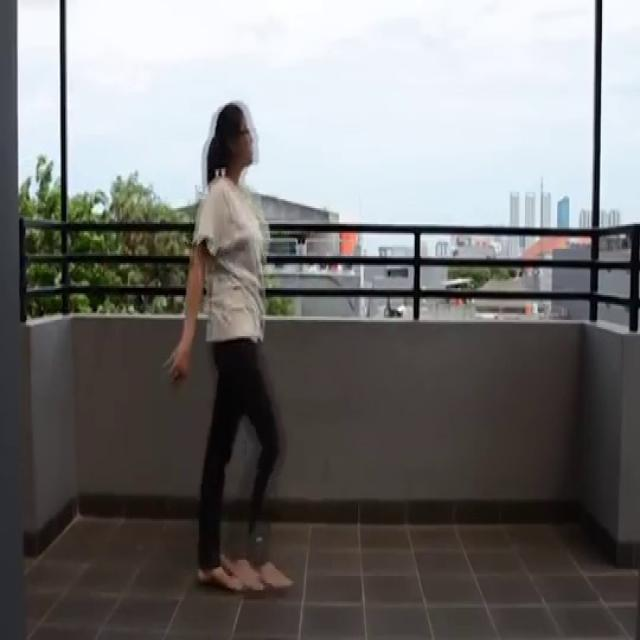normal: (164, 94, 302, 599)
